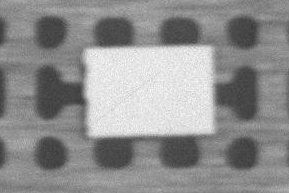DIE_CRACK: (130, 47, 240, 85)
